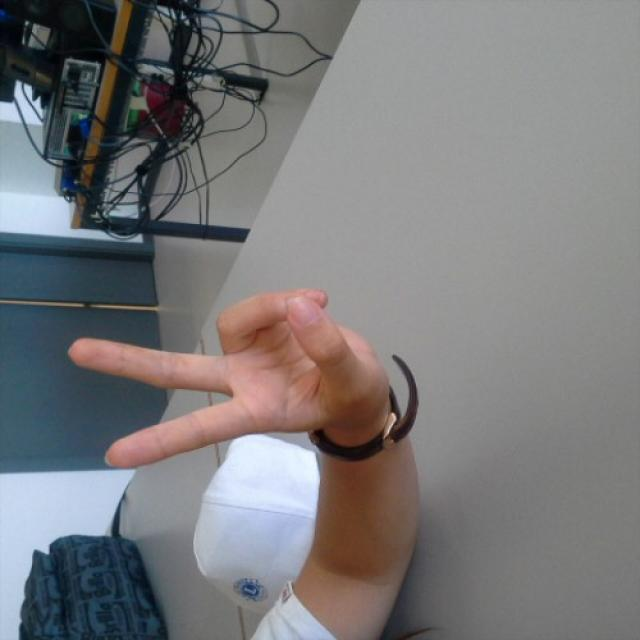scissors: (64, 284, 354, 470)
